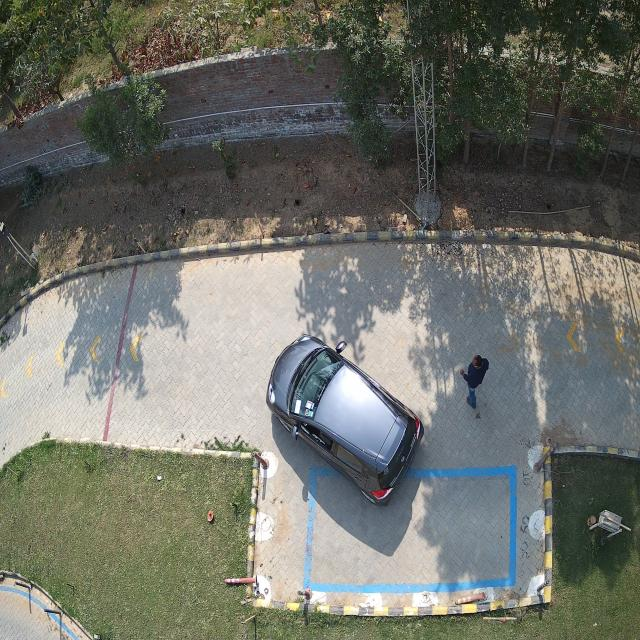car: (266, 335, 424, 503)
